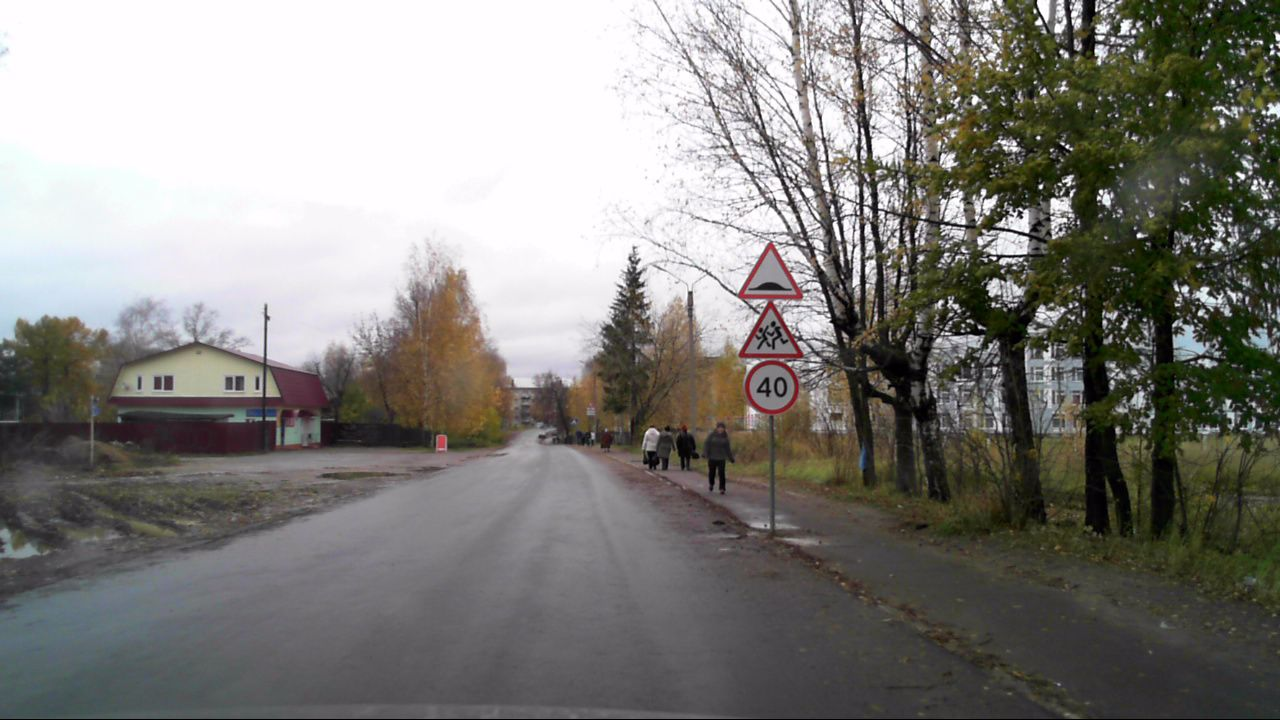speed_warning_40: (742, 358, 800, 416)
